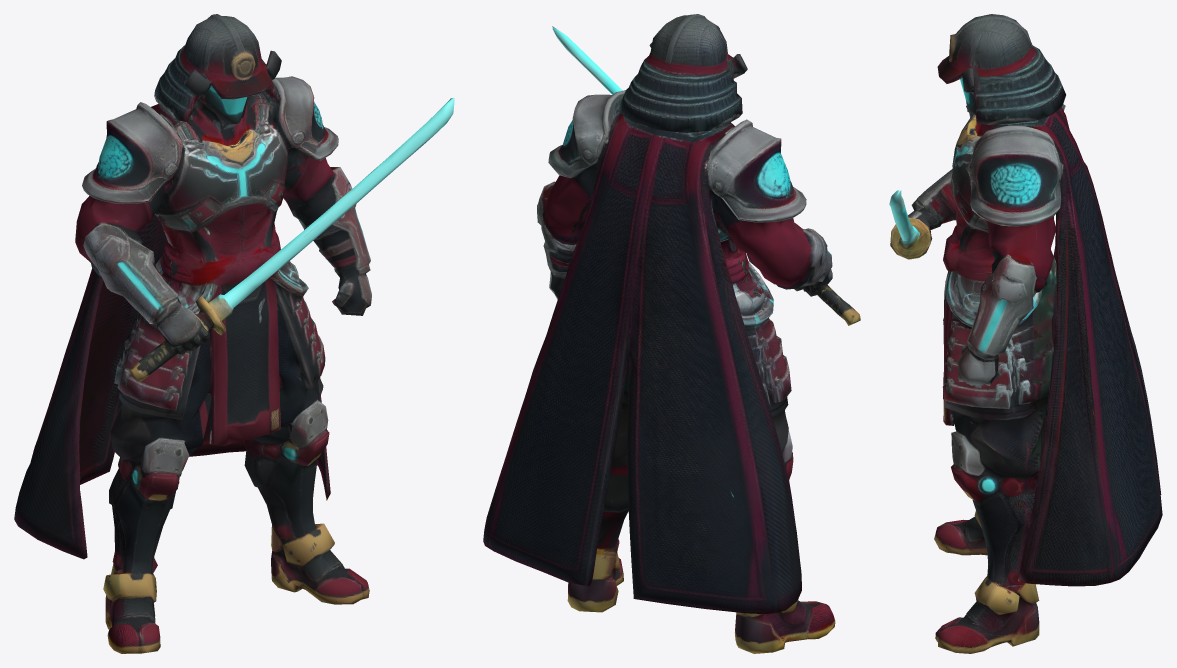
The model's file is meshy_model_1785773992.18.glb.
The picture shows the model from 3 angles, left to right: view 1: azimuth 30°, elevation 25°; view 2: azimuth 150°, elevation 25°; view 3: azimuth 270°, elevation 25°; orthographic projection. The views are drawn at different scales.
Visible parts, largest first — view 1: Mesh1.0; view 2: Mesh1.0; view 3: Mesh1.0.
Boxes of the visible parts, x1=… form: Mesh1.0: x1=14, y1=14, x2=454, y2=653; Mesh1.0: x1=483, y1=14, x2=860, y2=653; Mesh1.0: x1=889, y1=14, x2=1162, y2=653.
Size of the model in its own units: 1.12 by 1.91 by 0.8144.
Materials: 1 (1 with a texture image).
